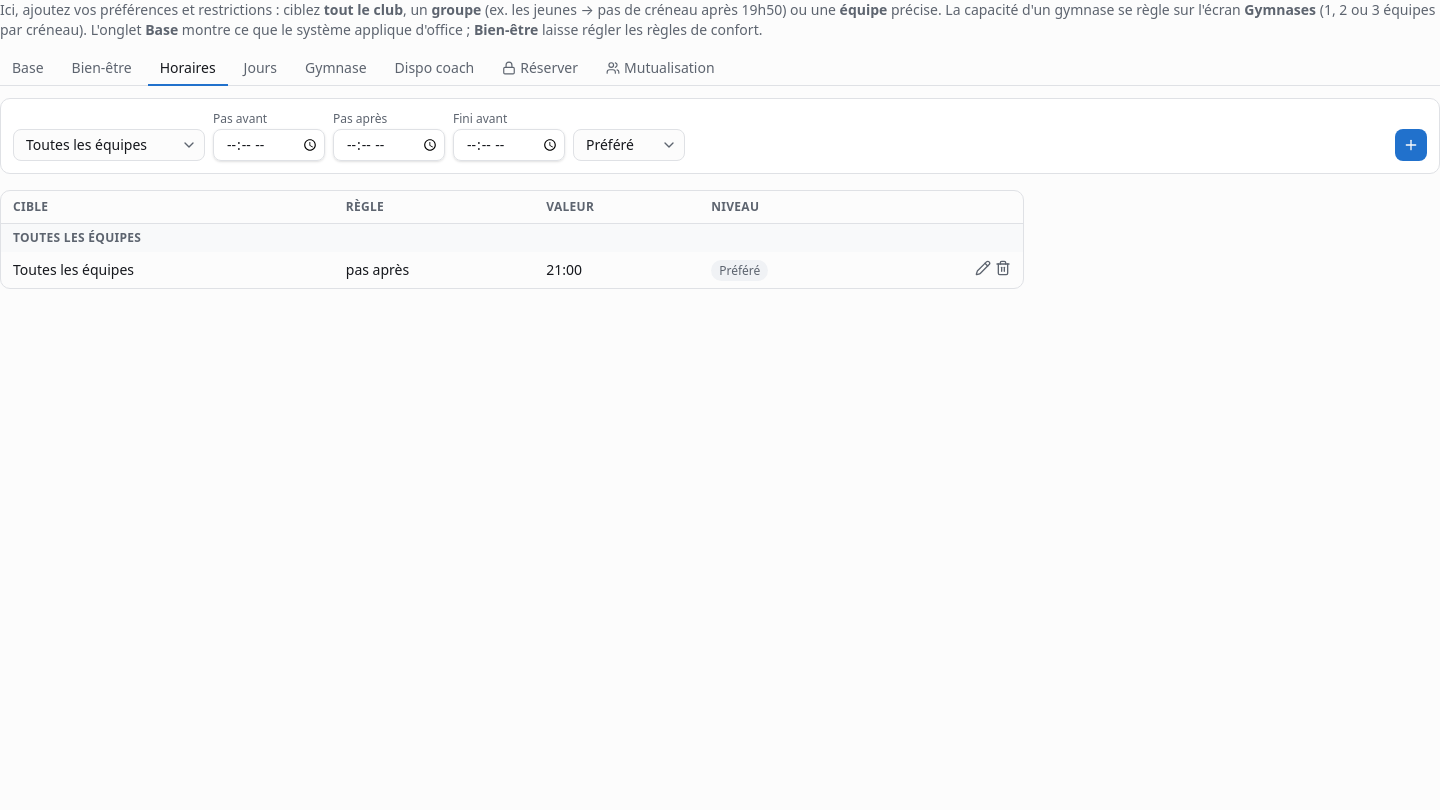
ConstraintsStep — Réserver tab (slot grid + modal) › ferme la saisie tant que les liens coach ne sont pas connus (jamais de fail-open)
The width and height of the screenshot is (1440, 810).
Click the button "Réserver" at [540, 69], box [490,52,590,86]
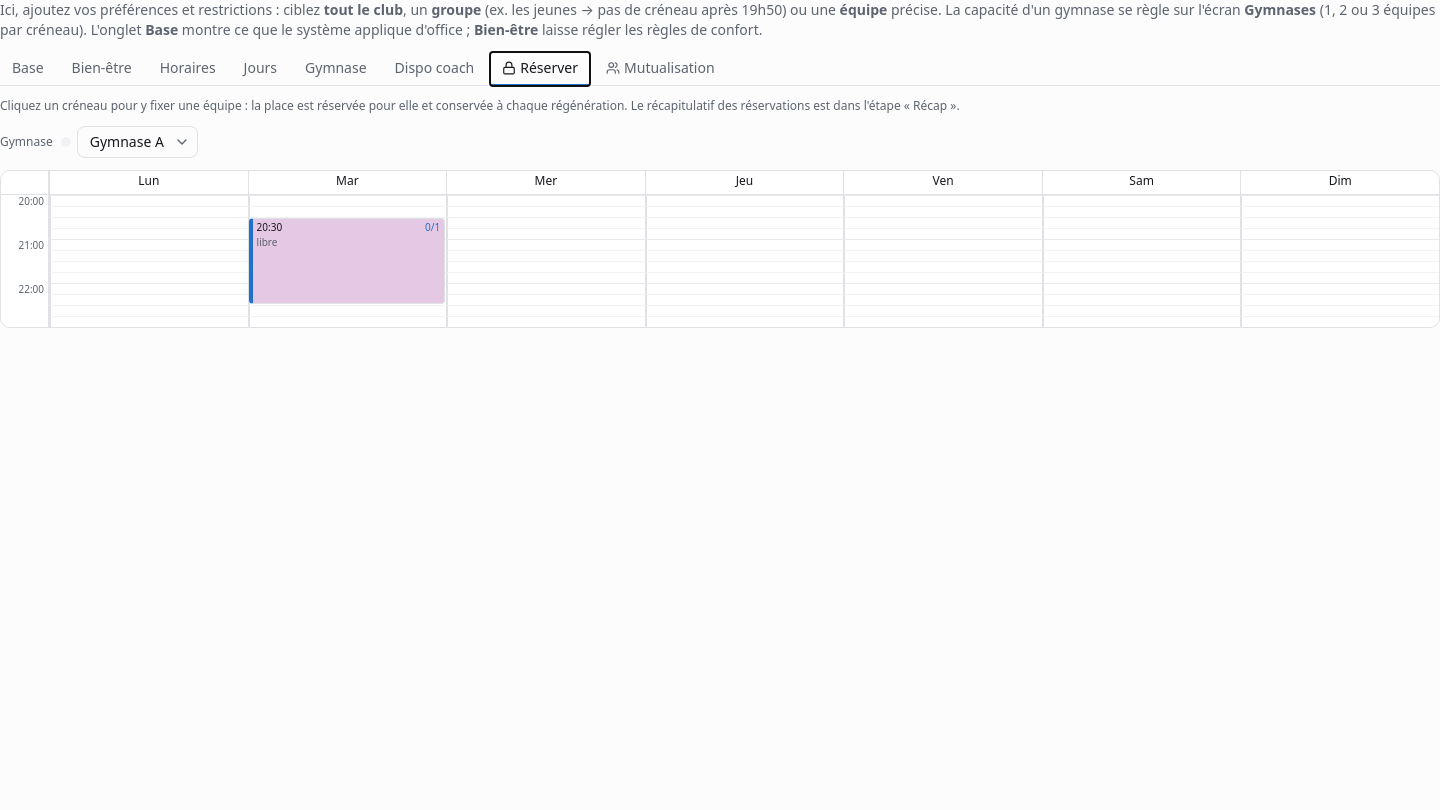
Click the button "20:30 0/1 libre" at [347, 261], box [249,218,445,304]
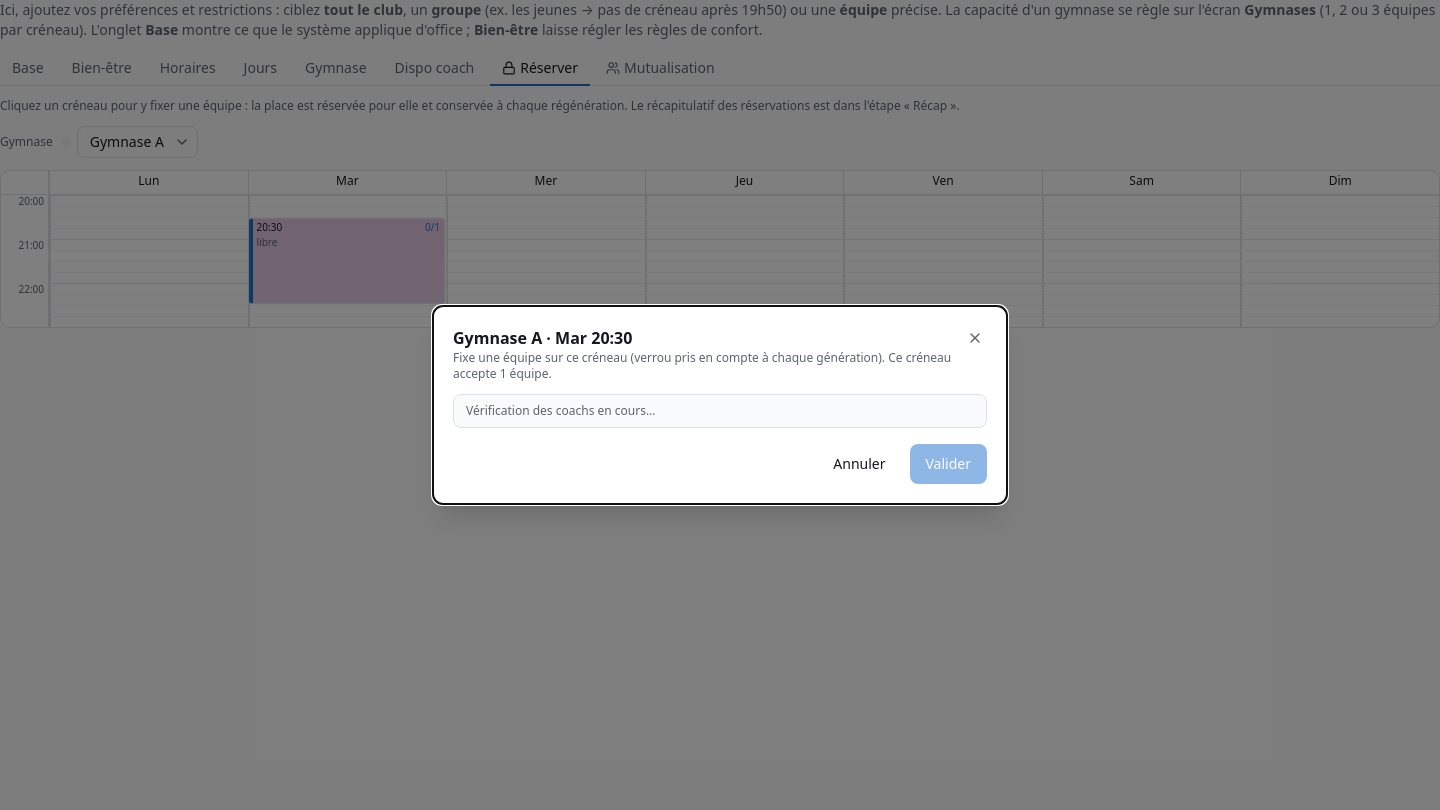
Expected: the message shows "Vérification des coachs", [466,402,656,419]
